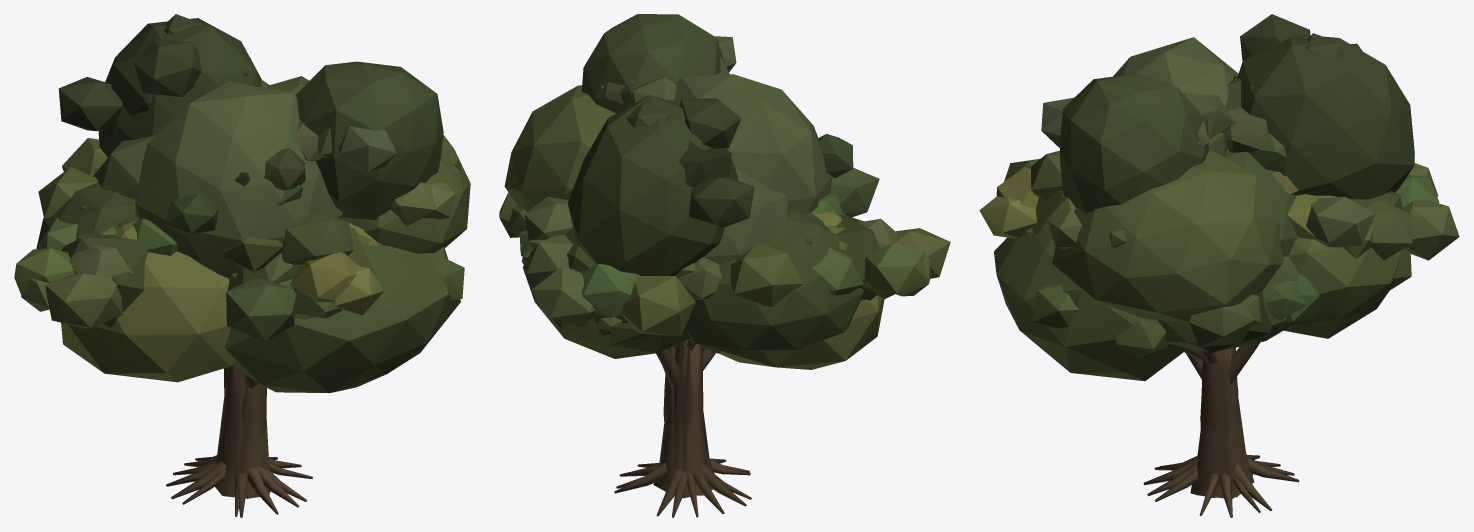
Rendered from arboles.glb.
3 views of the same model, side by side, from view 1: azimuth 30°, elevation 25°; view 2: azimuth 150°, elevation 25°; view 3: azimuth 270°, elevation 25° (orthographic). The views are drawn at different scales.
Parts seen in each view (by area): view 1: Arbol2_Lejos_Copa, Arbol1_Lejos_Copa, Arbol3_Lejos_Copa, Arbol3_Cerca_Copa, Arbol2_Cerca_Copa, Arbol1_Cerca_Copa, Arbol3_Cerca_Tronco, Arbol1_Cerca_Tronco, Arbol1_Lejos_Tronco, Arbol3_Lejos_Tronco, Arbol2_Cerca_Tronco; view 2: Arbol2_Lejos_Copa, Arbol1_Cerca_Copa, Arbol1_Lejos_Copa, Arbol3_Lejos_Copa, Arbol3_Cerca_Copa, Arbol2_Cerca_Copa, Arbol3_Cerca_Tronco, Arbol1_Cerca_Tronco, Arbol1_Lejos_Tronco, Arbol2_Cerca_Tronco, Arbol3_Lejos_Tronco; view 3: Arbol2_Lejos_Copa, Arbol3_Lejos_Copa, Arbol1_Lejos_Copa, Arbol1_Cerca_Copa, Arbol3_Cerca_Copa, Arbol2_Cerca_Copa, Arbol3_Cerca_Tronco, Arbol3_Lejos_Tronco, Arbol1_Cerca_Tronco, Arbol2_Cerca_Tronco.
Boxes of the visible parts, x1,y1,x2,y2 form: Arbol2_Lejos_Copa: [93, 18, 443, 278]; Arbol1_Lejos_Copa: [36, 182, 460, 393]; Arbol3_Lejos_Copa: [61, 135, 470, 382]; Arbol3_Cerca_Copa: [14, 152, 460, 328]; Arbol2_Cerca_Copa: [58, 14, 396, 236]; Arbol1_Cerca_Copa: [38, 138, 464, 341]; Arbol3_Cerca_Tronco: [171, 372, 299, 514]; Arbol1_Cerca_Tronco: [166, 366, 306, 517]; Arbol1_Lejos_Tronco: [216, 366, 243, 476]; Arbol3_Lejos_Tronco: [215, 387, 270, 495]; Arbol2_Cerca_Tronco: [173, 457, 312, 516]; Arbol2_Lejos_Copa: [559, 14, 832, 353]; Arbol1_Cerca_Copa: [499, 168, 879, 336]; Arbol1_Lejos_Copa: [522, 210, 863, 358]; Arbol3_Lejos_Copa: [504, 85, 884, 369]; Arbol3_Cerca_Copa: [524, 196, 950, 300]; Arbol2_Cerca_Copa: [600, 36, 853, 251]; Arbol3_Cerca_Tronco: [614, 346, 746, 516]; Arbol1_Cerca_Tronco: [619, 340, 749, 517]; Arbol1_Lejos_Tronco: [673, 339, 709, 495]; Arbol2_Cerca_Tronco: [616, 340, 751, 517]; Arbol3_Lejos_Tronco: [659, 346, 704, 492]; Arbol2_Lejos_Copa: [1059, 35, 1414, 256]; Arbol3_Lejos_Copa: [1024, 151, 1411, 323]; Arbol1_Lejos_Copa: [994, 229, 1403, 381]; Arbol1_Cerca_Copa: [1004, 150, 1459, 358]; Arbol3_Cerca_Copa: [979, 167, 1402, 258]; Arbol2_Cerca_Copa: [1041, 14, 1362, 170]; Arbol3_Cerca_Tronco: [1143, 342, 1299, 511]; Arbol3_Lejos_Tronco: [1195, 348, 1254, 498]; Arbol1_Cerca_Tronco: [1154, 348, 1294, 517]; Arbol2_Cerca_Tronco: [1159, 347, 1280, 515].
Bounding box in the file's own units: 7.61 × 7.38 × 7.22.
